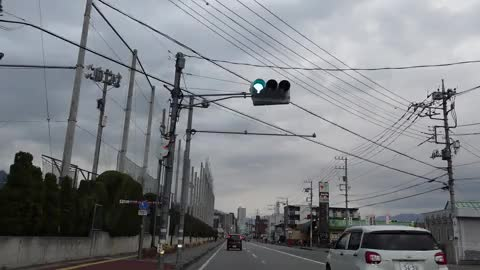traffic_sign: (136, 198, 150, 212)
